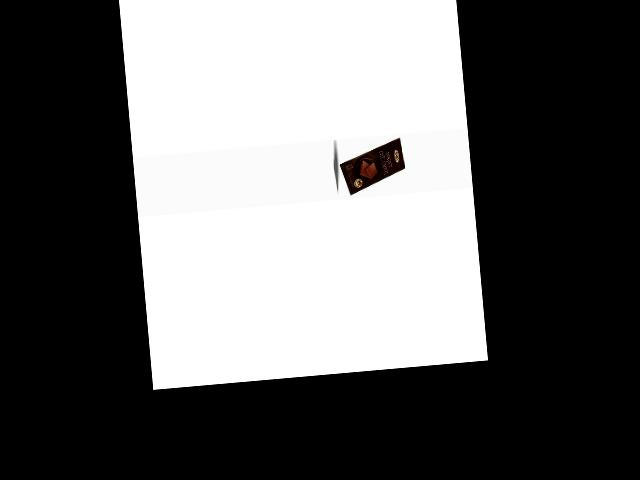chocolate: (334, 136, 408, 197)
